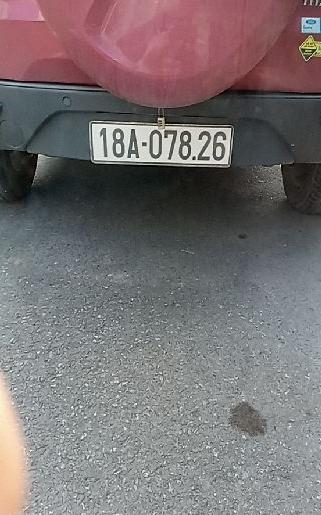Plate-iWeP: (90, 123, 235, 167)
